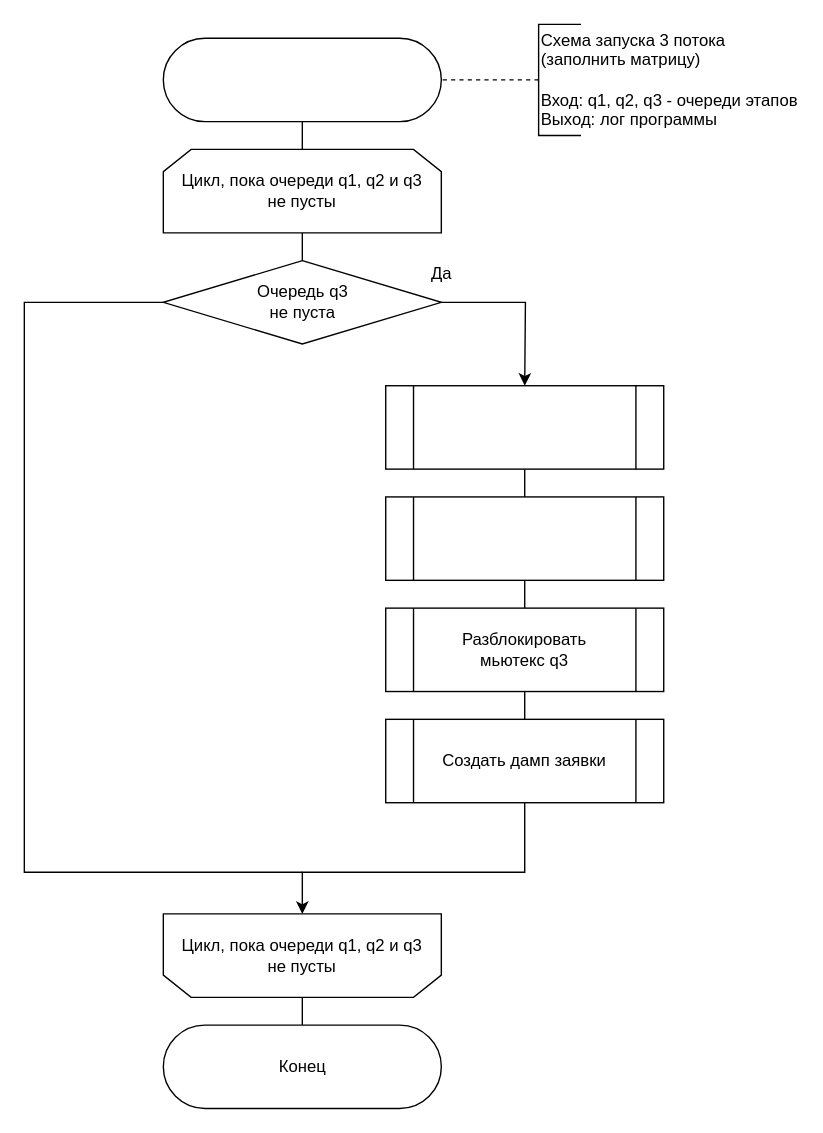
The diagram is 823 pixels wide and 1133 high, and some of its shapes have lost their labels. Each missing label, with the centre of its shape:
"Заблокировать мьютекс q3" belongs at (524,426).
"Начало" belongs at (301,79).
"Получить матрицу из очереди q3" belongs at (524,538).
